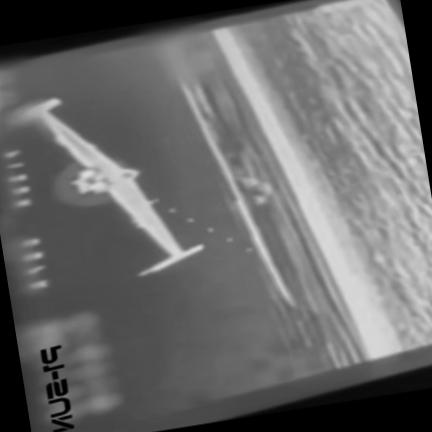Shahed: (15, 98, 204, 276)
